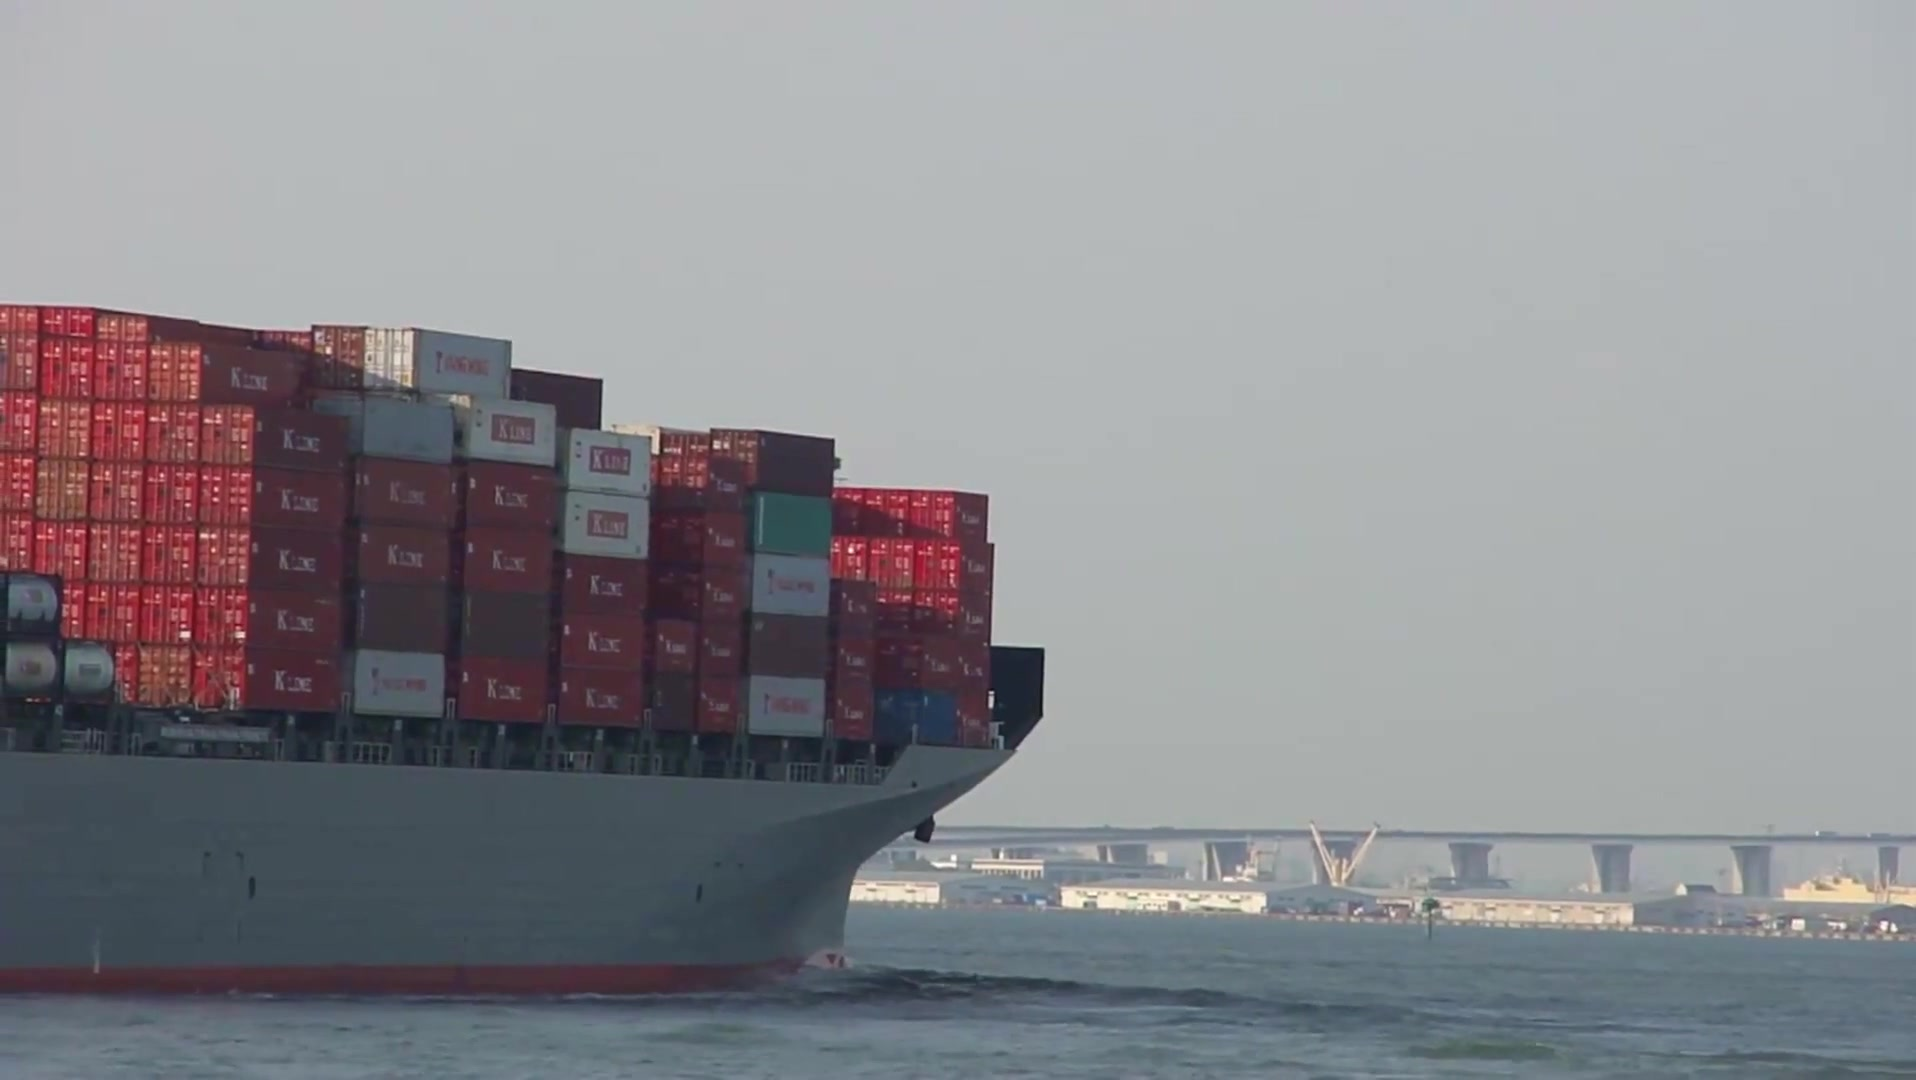boat: (1, 297, 1044, 1012)
